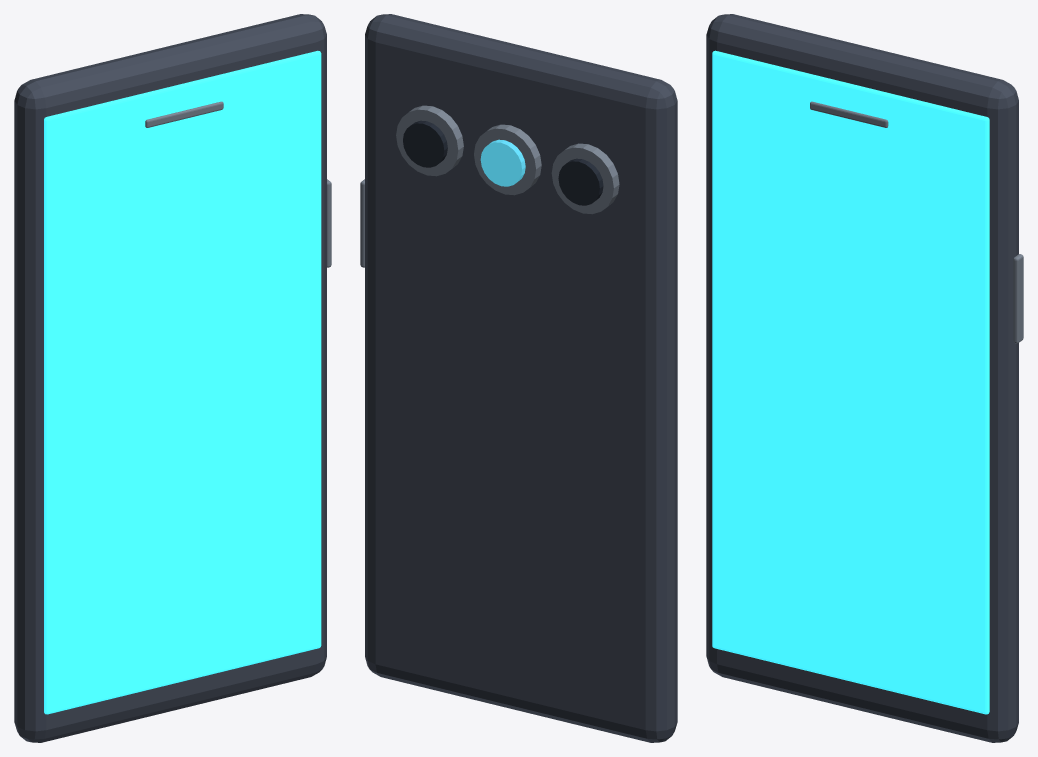
File: phone.glb
3 renders of one model, left to right at view 1: azimuth 30°, elevation 25°; view 2: azimuth 150°, elevation 25°; view 3: azimuth 330°, elevation 25°, orthographic.
Parts seen in each view (by area): view 1: Screen, PhoneBody, TopEarpiece; view 2: PhoneBody, CameraRing3, CameraRing2, CameraRing1, CameraLens1, CameraLens2, CameraLens3; view 3: Screen, PhoneBody, SideButton, TopEarpiece.
Boxes of the visible parts, x1,y1,x2,y2 form: Screen: [44, 50, 321, 714]; PhoneBody: [14, 14, 326, 742]; TopEarpiece: [145, 101, 223, 127]; PhoneBody: [365, 14, 677, 742]; CameraRing3: [396, 105, 463, 176]; CameraRing2: [474, 124, 541, 195]; CameraRing1: [551, 143, 619, 214]; CameraLens1: [558, 158, 603, 205]; CameraLens2: [480, 139, 525, 186]; CameraLens3: [403, 120, 447, 167]; Screen: [712, 50, 989, 714]; PhoneBody: [706, 14, 1018, 742]; SideButton: [1013, 254, 1023, 343]; TopEarpiece: [810, 101, 888, 127].
Size of the model in its own units: 0.0721 by 0.146 by 0.0138.
